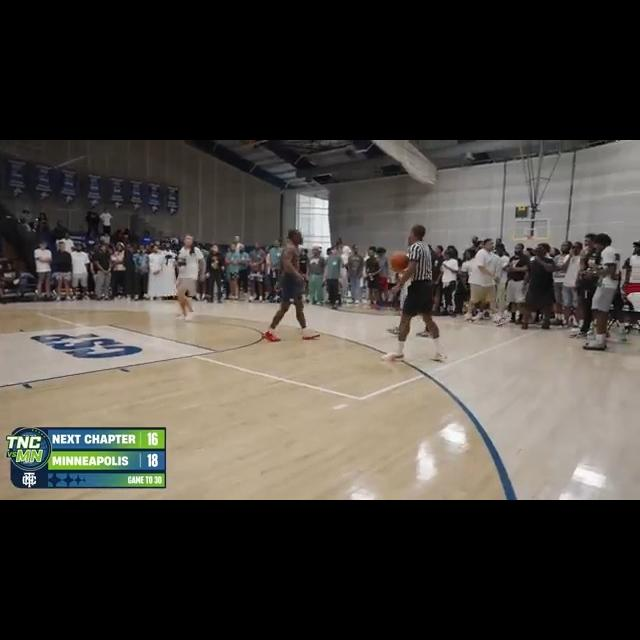basketball: (387, 251, 410, 271)
